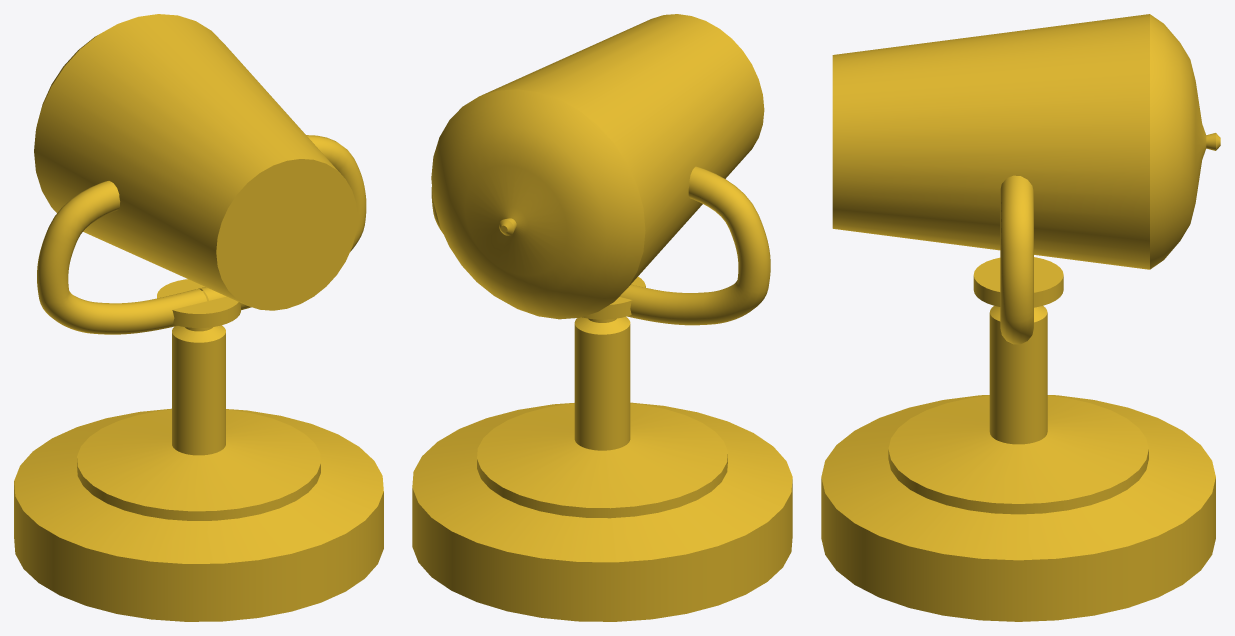
The model's file is canon.glb.
3 views of the same model, side by side, from view 1: azimuth 30°, elevation 25°; view 2: azimuth 150°, elevation 25°; view 3: azimuth 270°, elevation 25° (orthographic). The views are drawn at different scales.
Visible parts, largest first — view 1: BézierCurve; view 2: BézierCurve; view 3: BézierCurve.
Part boxes in pixels (box(x1,y1,x2,y2)): BézierCurve: box(14, 14, 383, 621); BézierCurve: box(412, 14, 792, 621); BézierCurve: box(821, 14, 1220, 621).
Size of the model in its own units: 1.42 by 2.01 by 1.42.
